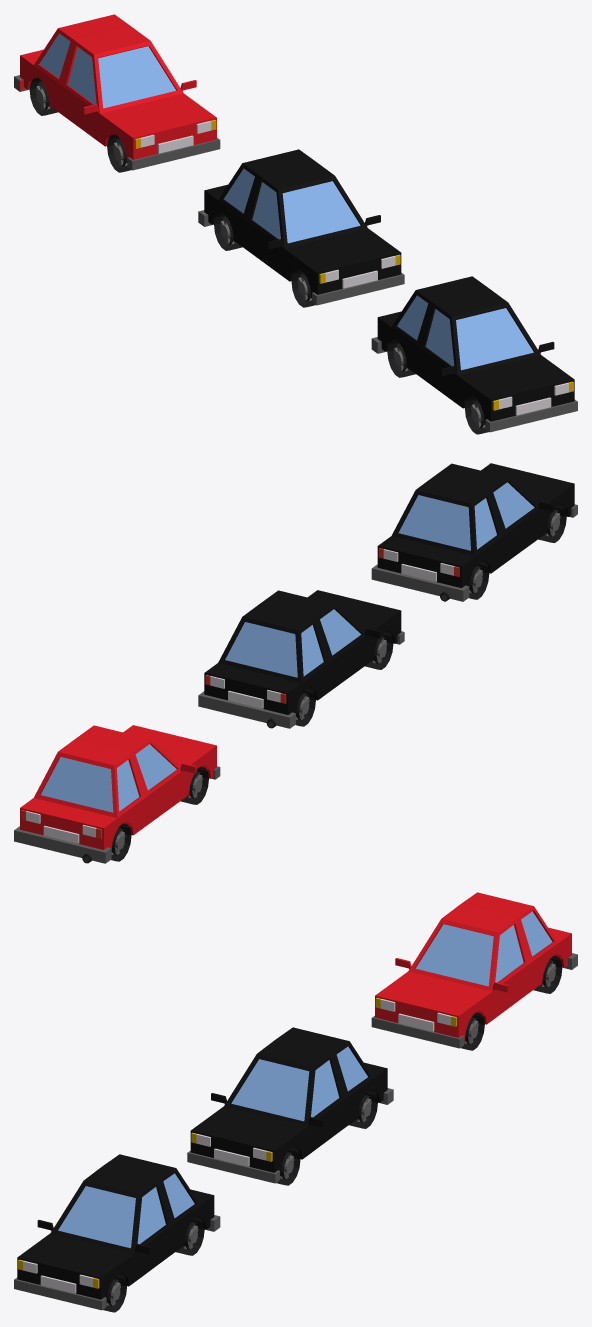
The model's file is car3.glb.
3 renders of one model, top to bottom at view 1: azimuth 30°, elevation 25°; view 2: azimuth 150°, elevation 25°; view 3: azimuth 330°, elevation 25°, orthographic.
Parts seen in each view (by area): view 1: zar.001, zar, zar.002, Cylinder.002, Cylinder.008, Cylinder.004, Cylinder.001, Cylinder.003, Cylinder.007; view 2: zar, zar.001, zar.002, Cylinder.003, Cylinder.001, Cylinder.007, Cylinder.008, Cylinder.002, Cylinder.004; view 3: zar.001, zar, zar.002, Cylinder.002, Cylinder.004, Cylinder.008, Cylinder.001, Cylinder.003, Cylinder.007.
Part boxes in pixels (box(x1,y1,x2,y2)): zar.001: box(198, 149, 404, 305); zar: box(371, 276, 577, 432); zar.002: box(14, 14, 220, 170); Cylinder.002: box(387, 339, 415, 377); Cylinder.008: box(29, 77, 57, 115); Cylinder.004: box(214, 212, 242, 250); Cylinder.001: box(465, 396, 488, 434); Cylinder.003: box(291, 269, 315, 307); Cylinder.007: box(107, 134, 130, 172); zar: box(371, 463, 577, 601); zar.001: box(198, 590, 404, 728); zar.002: box(14, 725, 220, 863); Cylinder.003: box(365, 631, 393, 669); Cylinder.001: box(538, 505, 566, 542); Cylinder.007: box(180, 766, 208, 804); Cylinder.008: box(111, 823, 131, 861); Cylinder.002: box(469, 561, 489, 599); Cylinder.004: box(295, 688, 315, 726); zar.001: box(187, 1027, 393, 1183); zar: box(14, 1154, 220, 1310); zar.002: box(371, 892, 577, 1048); Cylinder.002: box(176, 1217, 204, 1255); Cylinder.004: box(349, 1090, 377, 1128); Cylinder.008: box(533, 955, 562, 993); Cylinder.001: box(103, 1274, 126, 1312); Cylinder.003: box(276, 1147, 300, 1185); Cylinder.007: box(461, 1012, 484, 1050).
Size of the model in its own units: 0.5389 by 0.4011 by 3.94.
